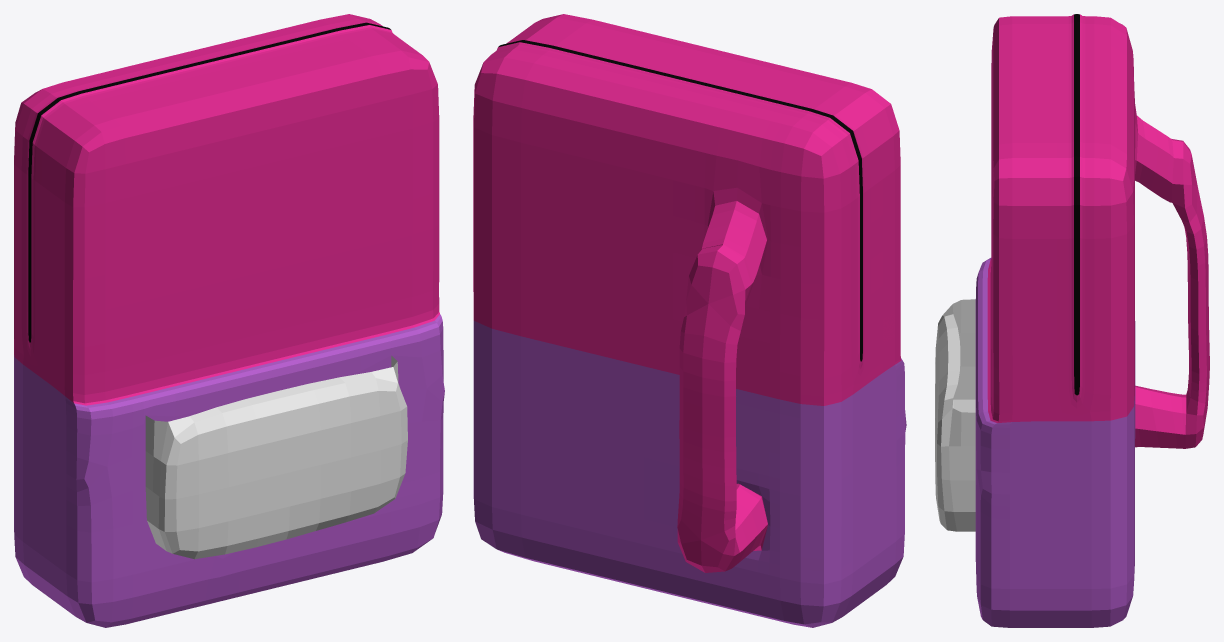
The model's file is backpack.fbx.
3 renders of one model, left to right at view 1: azimuth 30°, elevation 25°; view 2: azimuth 150°, elevation 25°; view 3: azimuth 270°, elevation 25°, orthographic. The views are drawn at different scales.
Visible parts, largest first — view 1: Cube; view 2: Cube; view 3: Cube.
Part boxes in pixels (bbox=[...]): Cube: bbox=[14, 14, 444, 627]; Cube: bbox=[473, 14, 906, 627]; Cube: bbox=[935, 14, 1209, 627].
Size of the model in its own units: 1.56 by 1.06 by 2.01.
